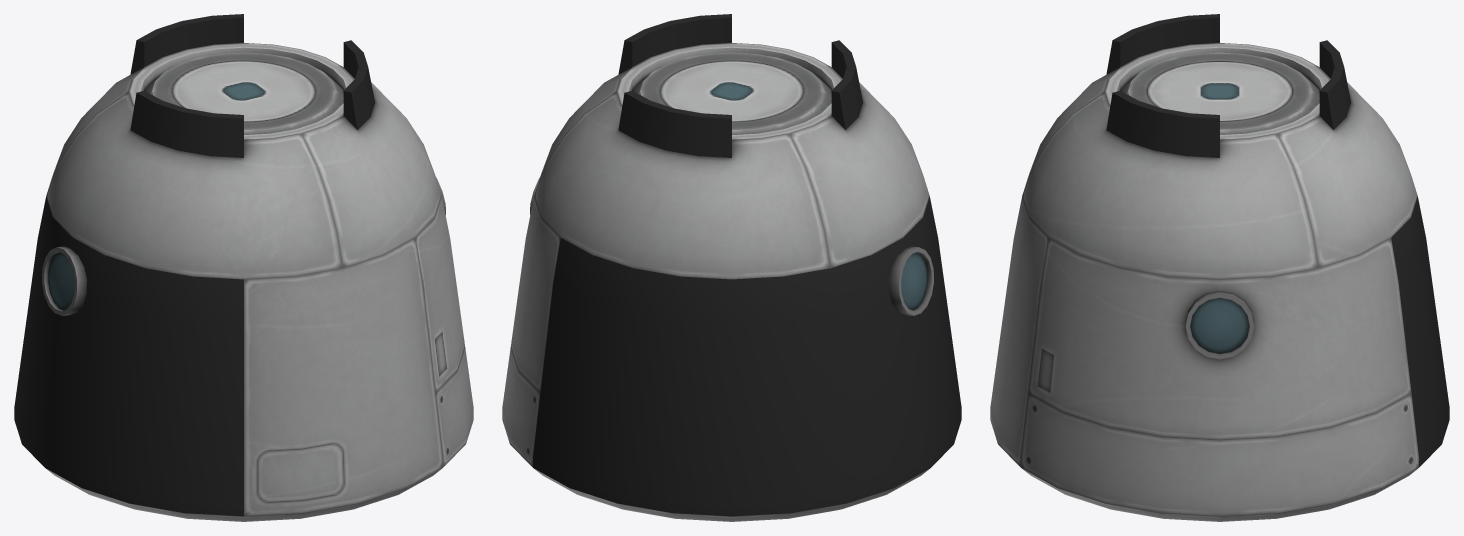
Rendered from Tantares_Crew_2.obj.
3 renders of one model, left to right at view 1: azimuth 30°, elevation 25°; view 2: azimuth 150°, elevation 25°; view 3: azimuth 270°, elevation 25°, orthographic.
Parts seen in each view (by area): view 1: Tantares_Crew_2, Tantares_Crew_2_Windows; view 2: Tantares_Crew_2, Tantares_Crew_2_Windows; view 3: Tantares_Crew_2, Tantares_Crew_2_Windows.
Part boxes in pixels (bbox=[...]): Tantares_Crew_2: bbox=[14, 14, 473, 521]; Tantares_Crew_2_Windows: bbox=[48, 252, 74, 310]; Tantares_Crew_2: bbox=[502, 14, 961, 521]; Tantares_Crew_2_Windows: bbox=[901, 252, 927, 310]; Tantares_Crew_2: bbox=[990, 14, 1449, 521]; Tantares_Crew_2_Windows: bbox=[1190, 298, 1249, 353].
Bounding box in the file's own units: 1.25 × 1.09 × 1.25.
